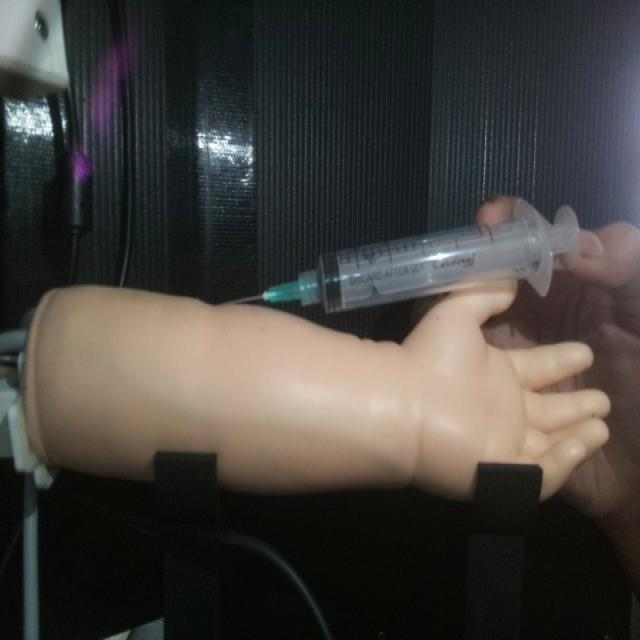Below 15 degrees: (226, 195, 582, 316)
